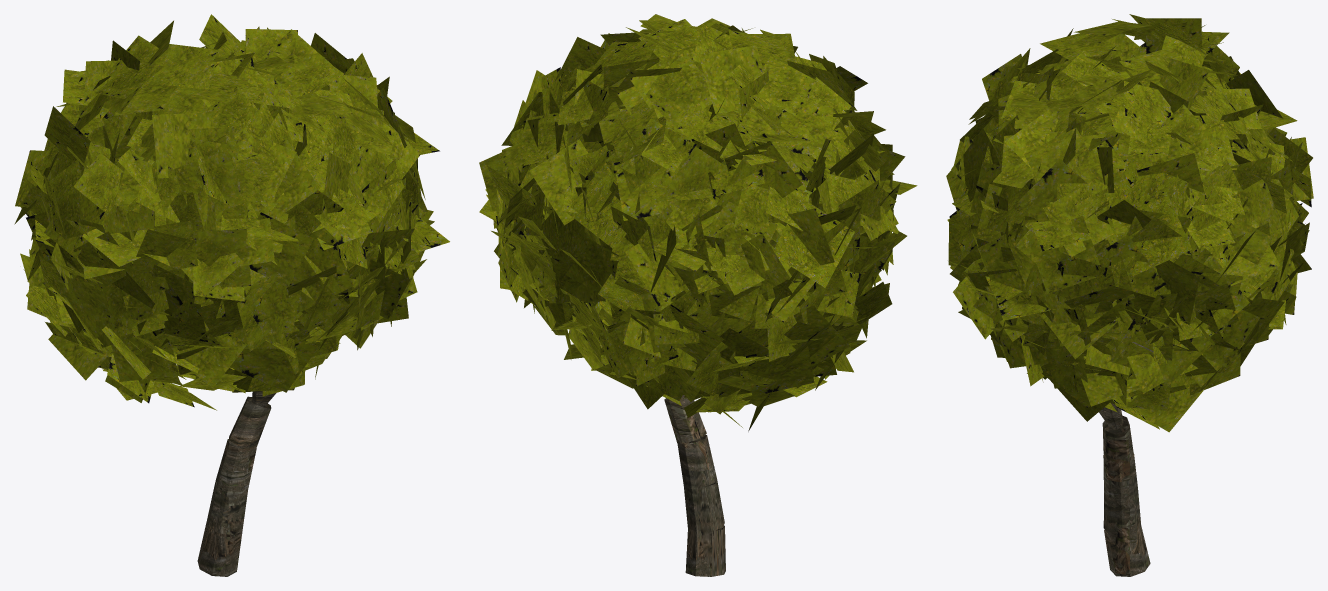
Rendered from tree_broadleaf_03.fbx.
3 views of the same model, side by side, from view 1: azimuth 30°, elevation 25°; view 2: azimuth 150°, elevation 25°; view 3: azimuth 270°, elevation 25° (orthographic).
Visible parts, largest first — view 1: tree_broadleaf_03_LOD0; view 2: tree_broadleaf_03_LOD0; view 3: tree_broadleaf_03_LOD0.
Part boxes in pixels (left/top/right/bottom): tree_broadleaf_03_LOD0: left=14, top=14, right=449, bottom=576; tree_broadleaf_03_LOD0: left=479, top=14, right=917, bottom=576; tree_broadleaf_03_LOD0: left=946, top=14, right=1313, bottom=576.
Size of what is drawn, in the model's own units: 11.3 by 15.09 by 9.42.
